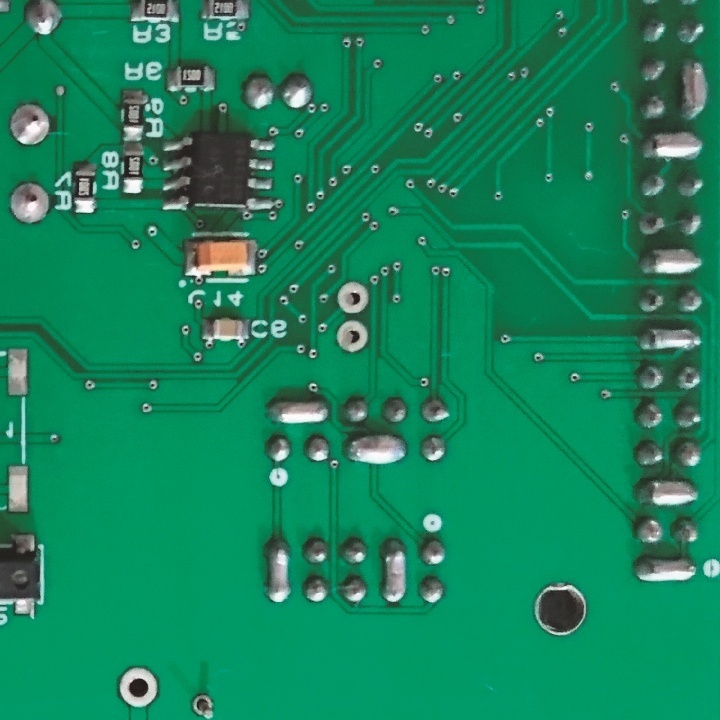F: (4, 100, 55, 149), (7, 180, 54, 226), (115, 663, 161, 706), (334, 315, 370, 358), (335, 281, 372, 312), (187, 692, 219, 720)
P: (341, 428, 410, 469), (628, 552, 701, 589), (378, 530, 410, 609), (636, 242, 704, 279), (637, 128, 705, 163), (264, 531, 295, 606), (263, 393, 331, 427), (630, 475, 702, 507), (677, 55, 709, 125), (635, 323, 707, 352)
